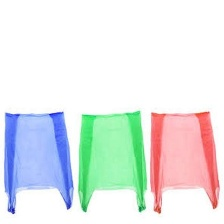plastic_bag: (146, 108, 224, 218), (0, 109, 76, 217), (72, 109, 147, 215)
